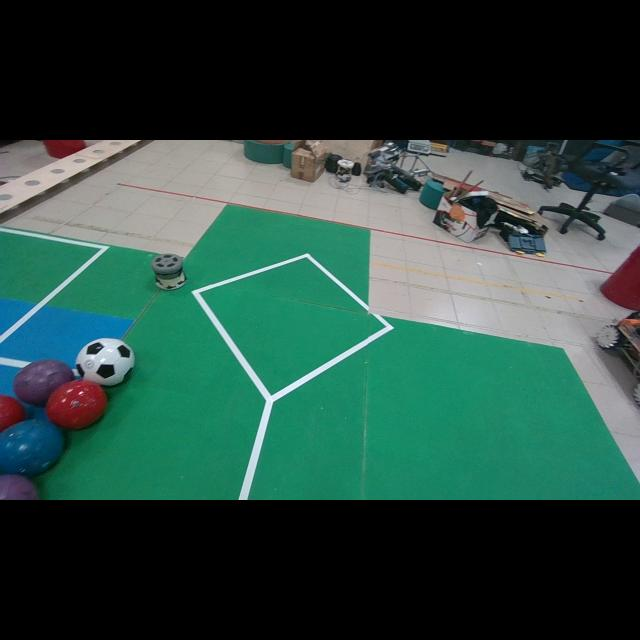B: (0, 419, 64, 476)
P: (14, 359, 75, 406), (0, 475, 38, 500)
R: (45, 380, 108, 428), (0, 395, 25, 432)
